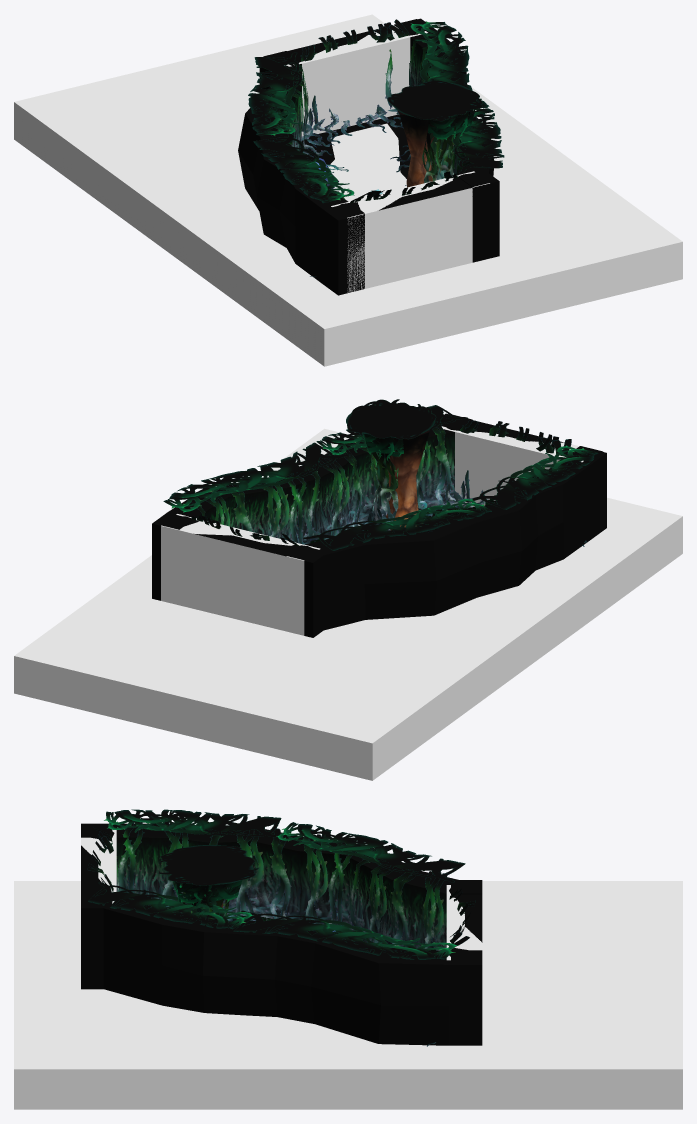
Rendered from Dungeon_012_Road_003.fbx.
3 views of the same model, one above another, from view 1: azimuth 30°, elevation 25°; view 2: azimuth 150°, elevation 25°; view 3: azimuth 270°, elevation 25° (orthographic). The views are drawn at different scales.
Visible parts, largest first — view 1: Cube, DoorWay_NavMask (1) (×2), Dan1, Dungeon_021_Tsuta_002, Dungeon_021_Object_010, un_021_Door_002_Object1, un_021_Door_002 (×2), Dungeon_021_Tsuta_001, Dungeon_011_Object_010, Dungeon_021_Object_011, Dan1_shadow, DoorWay_NavMask; view 2: Cube, Dan1, DoorWay_NavMask (1) (×2), Dungeon_021_Tsuta_002, Dungeon_021_Tsuta_001, Dungeon_021_Object_010, un_021_Door_002 (×2), Dungeon_011_Object_010, Dungeon_021_Object_011, un_021_Door_002_Object1, DoorWay_NavMask; view 3: Cube, Dan1, Dungeon_021_Tsuta_002, Dungeon_021_Tsuta_001, Dungeon_021_Object_010, un_021_Door_002 (×2), un_021_Door_002_Object1 (×2), DoorWay_NavMask (1), DoorWay_NavMask.
Boxes of the visible parts, box(x1,y1,x2,y2) form: Cube: box(14, 14, 682, 366); DoorWay_NavMask (1) (×2): box(284, 31, 489, 292); Dan1: box(238, 18, 499, 295); Dungeon_021_Tsuta_002: box(248, 21, 504, 203); Dungeon_021_Object_010: box(387, 80, 482, 140); un_021_Door_002_Object1: box(300, 19, 409, 147); un_021_Door_002 (×2): box(263, 19, 495, 218); Dungeon_021_Tsuta_001: box(254, 36, 478, 199); Dungeon_011_Object_010: box(397, 110, 438, 187); Dungeon_021_Object_011: box(422, 115, 461, 183); Dan1_shadow: box(301, 114, 410, 178); DoorWay_NavMask: box(354, 178, 453, 213); Cube: box(14, 428, 682, 780); Dan1: box(152, 413, 606, 637); DoorWay_NavMask (1) (×2): box(161, 426, 583, 635); Dungeon_021_Tsuta_002: box(163, 405, 598, 550); Dungeon_021_Tsuta_001: box(191, 422, 571, 544); Dungeon_021_Object_010: box(346, 399, 436, 461); un_021_Door_002 (×2): box(156, 414, 602, 561); Dungeon_011_Object_010: box(385, 430, 429, 530); Dungeon_021_Object_011: box(362, 441, 418, 530); un_021_Door_002_Object1: box(439, 420, 586, 546); DoorWay_NavMask: box(179, 520, 299, 545); Cube: box(14, 881, 682, 1109); Dan1: box(81, 823, 482, 1045); Dungeon_021_Tsuta_002: box(88, 809, 465, 959); Dungeon_021_Tsuta_001: box(118, 821, 447, 951); Dungeon_021_Object_010: box(158, 845, 258, 908); un_021_Door_002 (×2): box(81, 825, 482, 962); un_021_Door_002_Object1 (×2): box(87, 828, 475, 1046); DoorWay_NavMask (1): box(446, 885, 482, 960); DoorWay_NavMask: box(81, 837, 112, 892).
Size of what is drawn, in the model's own units: 10 by 4.01 by 15.
